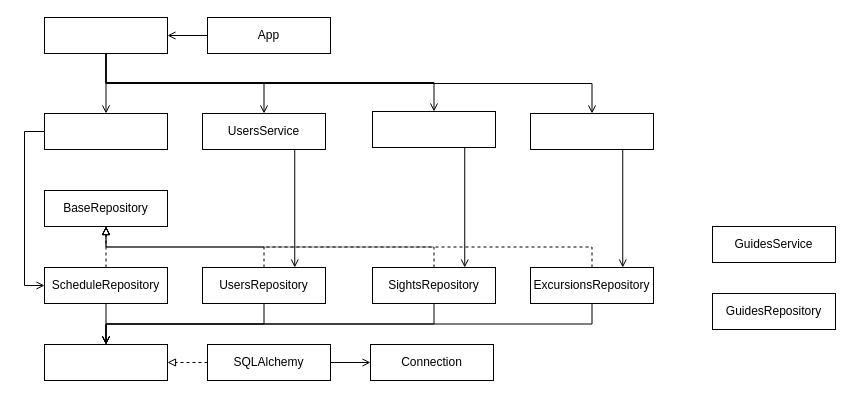
This 853x398 diagram has some shape labels left out. Each missing label, with the box of its shape:
ExcursionsService: (530, 112, 654, 150)
Manager: (44, 16, 168, 54)
ScheduleService: (44, 112, 168, 150)
Sessionmanager: (44, 344, 168, 380)
SightsService: (372, 110, 496, 148)
